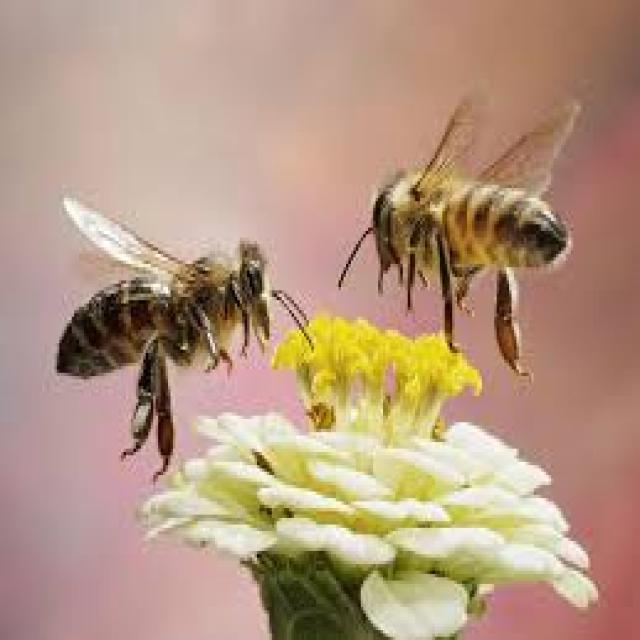Bees: (57, 190, 315, 470), (338, 95, 579, 382)
